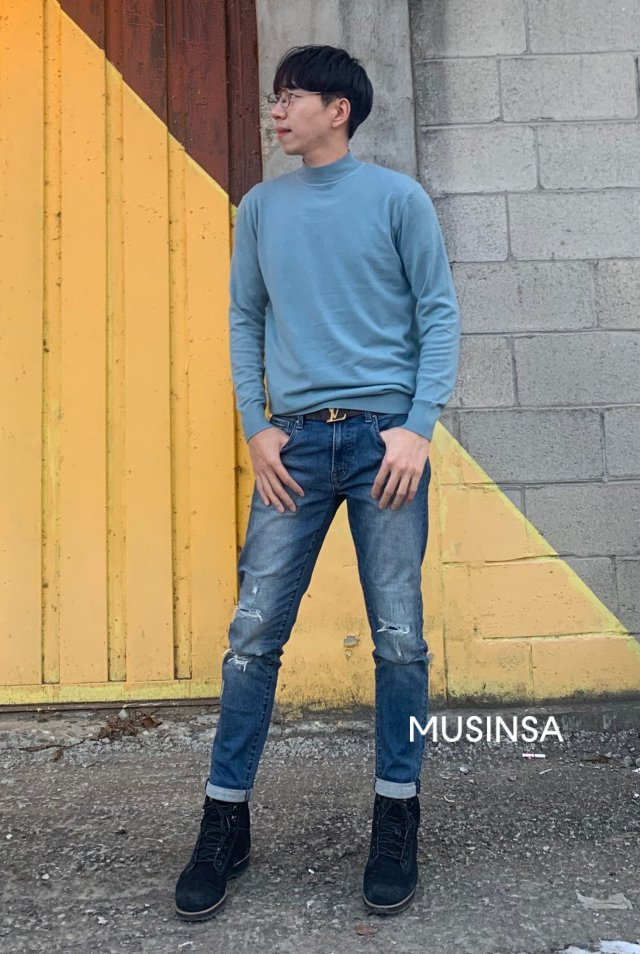Accessories: (288, 399, 392, 424)
Glasses: (264, 84, 341, 104)
Jeans: (198, 401, 456, 802)
Shoes: (168, 784, 449, 928)
Top: (210, 153, 470, 430)
